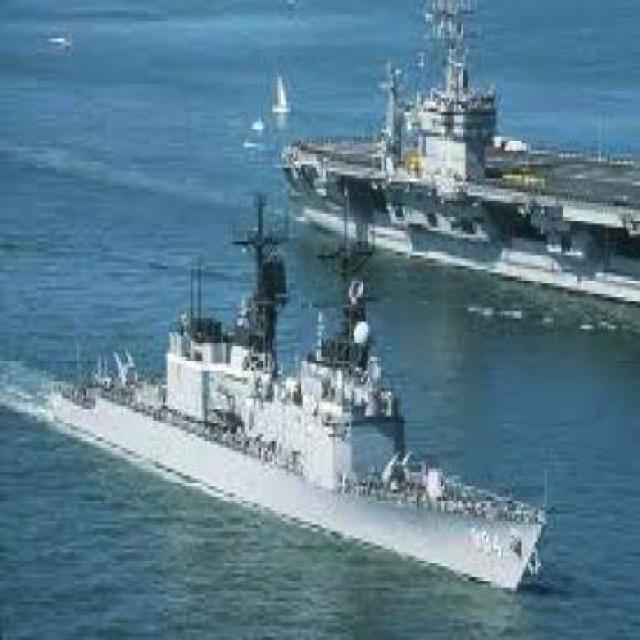no-oil: (22, 19, 256, 306)
